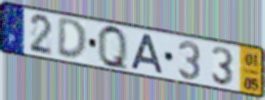2: (28, 13, 54, 58)
3: (176, 39, 202, 82), (211, 46, 236, 88)
A: (129, 32, 166, 76)
D: (56, 18, 89, 63)
Q: (95, 23, 130, 74)
